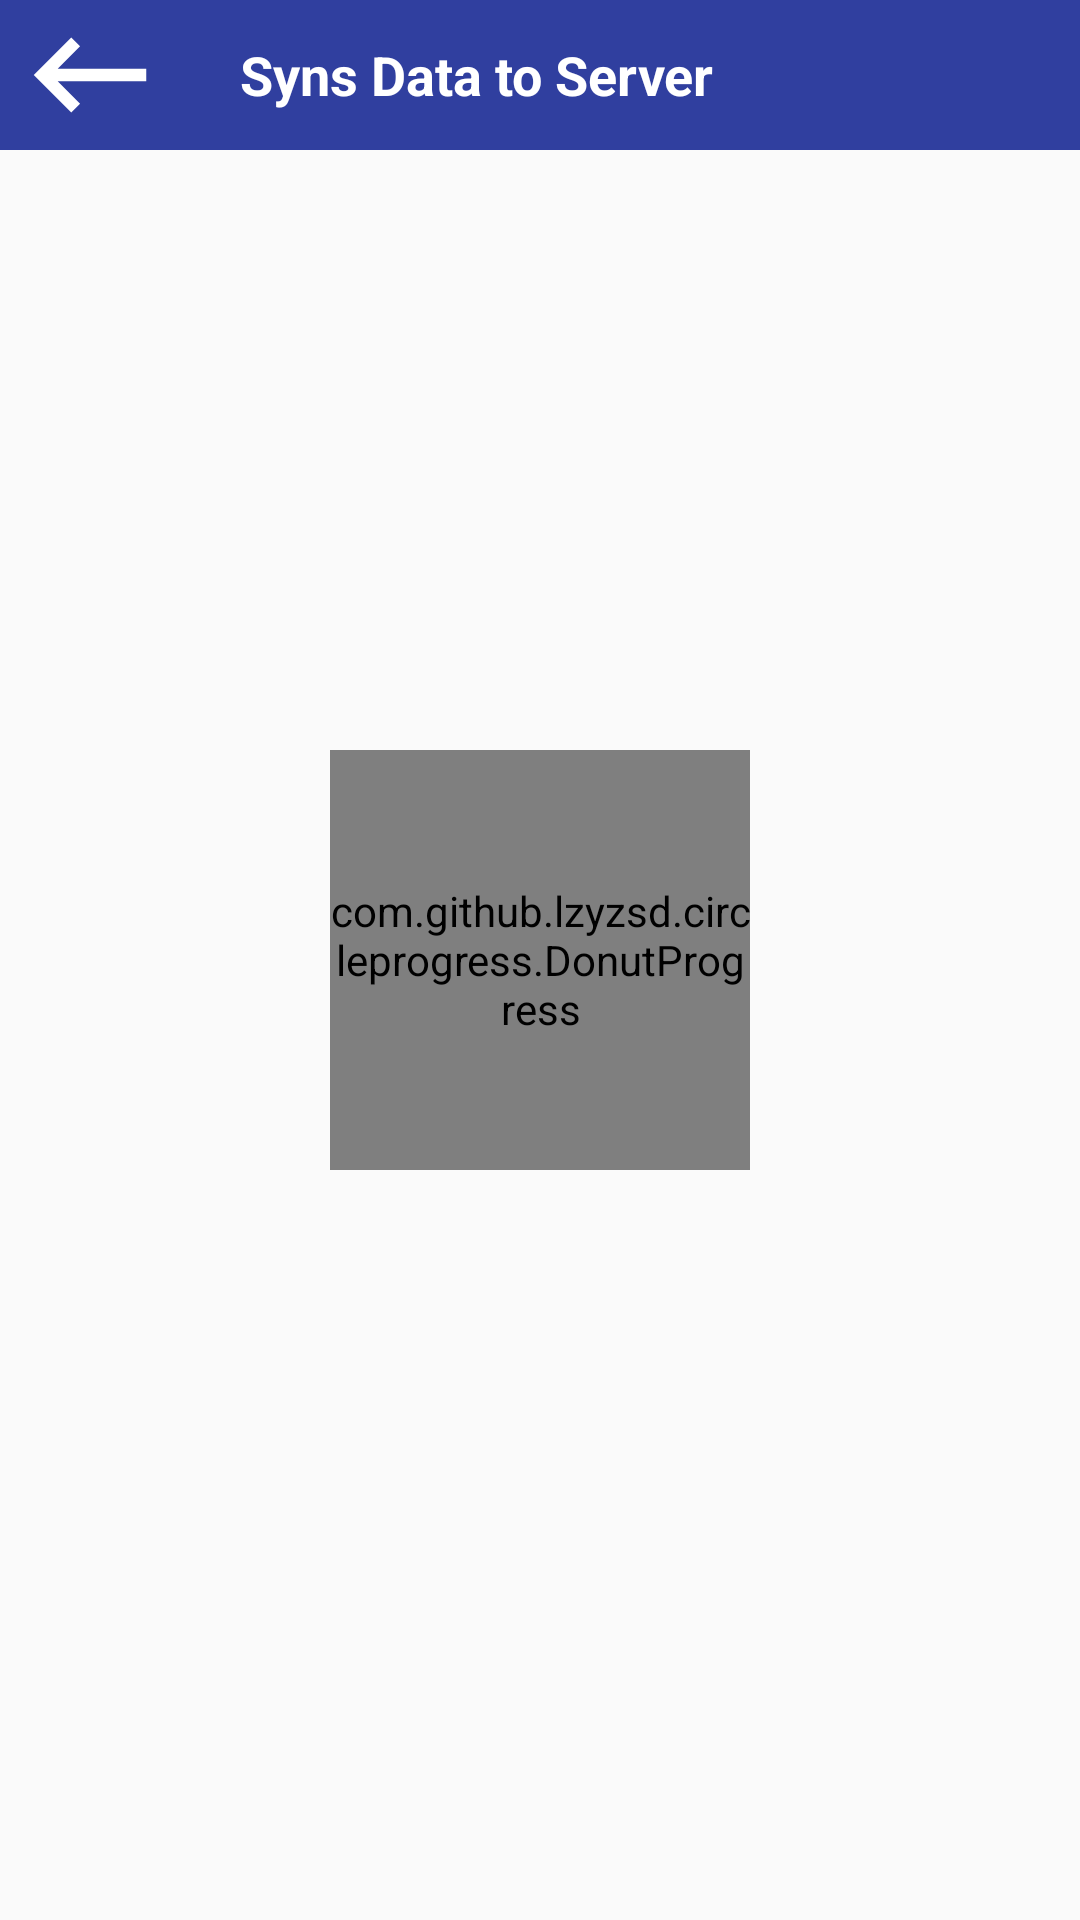

Icons on this 1080x1920 Android screen, each with the point to tap as [x,y]:
back: [90,75]
